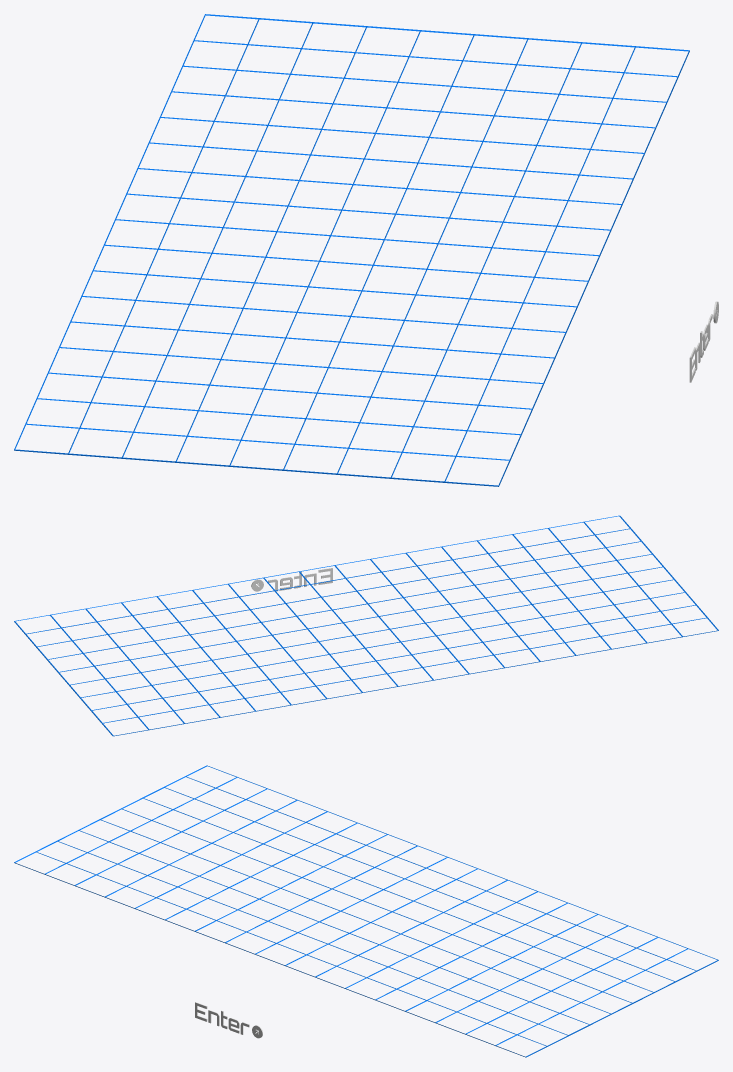
Rendered from skillsGrid.glb.
3 renders of one model, top to bottom at view 1: azimuth 30°, elevation 25°; view 2: azimuth 150°, elevation 25°; view 3: azimuth 270°, elevation 25°, orthographic. The views are drawn at different scales.
Visible parts, largest first — view 1: skillsGrid; view 2: skillsGrid, skillEnter; view 3: skillsGrid, skillEnter.
Part boxes in pixels (x1=…): skillsGrid: x1=14, y1=14, x2=689, y2=486; skillsGrid: x1=14, y1=515, x2=718, y2=736; skillEnter: x1=251, y1=568, x2=332, y2=591; skillsGrid: x1=14, y1=765, x2=718, y2=1057; skillEnter: x1=195, y1=1002, x2=262, y2=1038.
Size of the model in its own units: 253 by 22.89 by 271.
